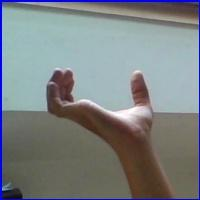B: (39, 62, 162, 148)
